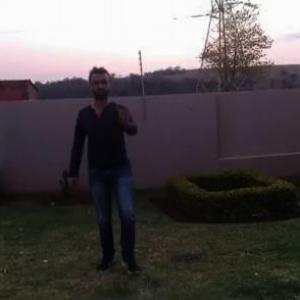takeoff-hand: (110, 97, 139, 129)
